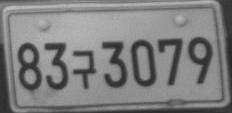0: (130, 38, 157, 87)
3: (100, 40, 127, 88), (44, 41, 69, 90)
7: (157, 37, 184, 86)
8: (15, 40, 43, 91)
9: (187, 35, 214, 84)
구: (71, 48, 96, 89)
